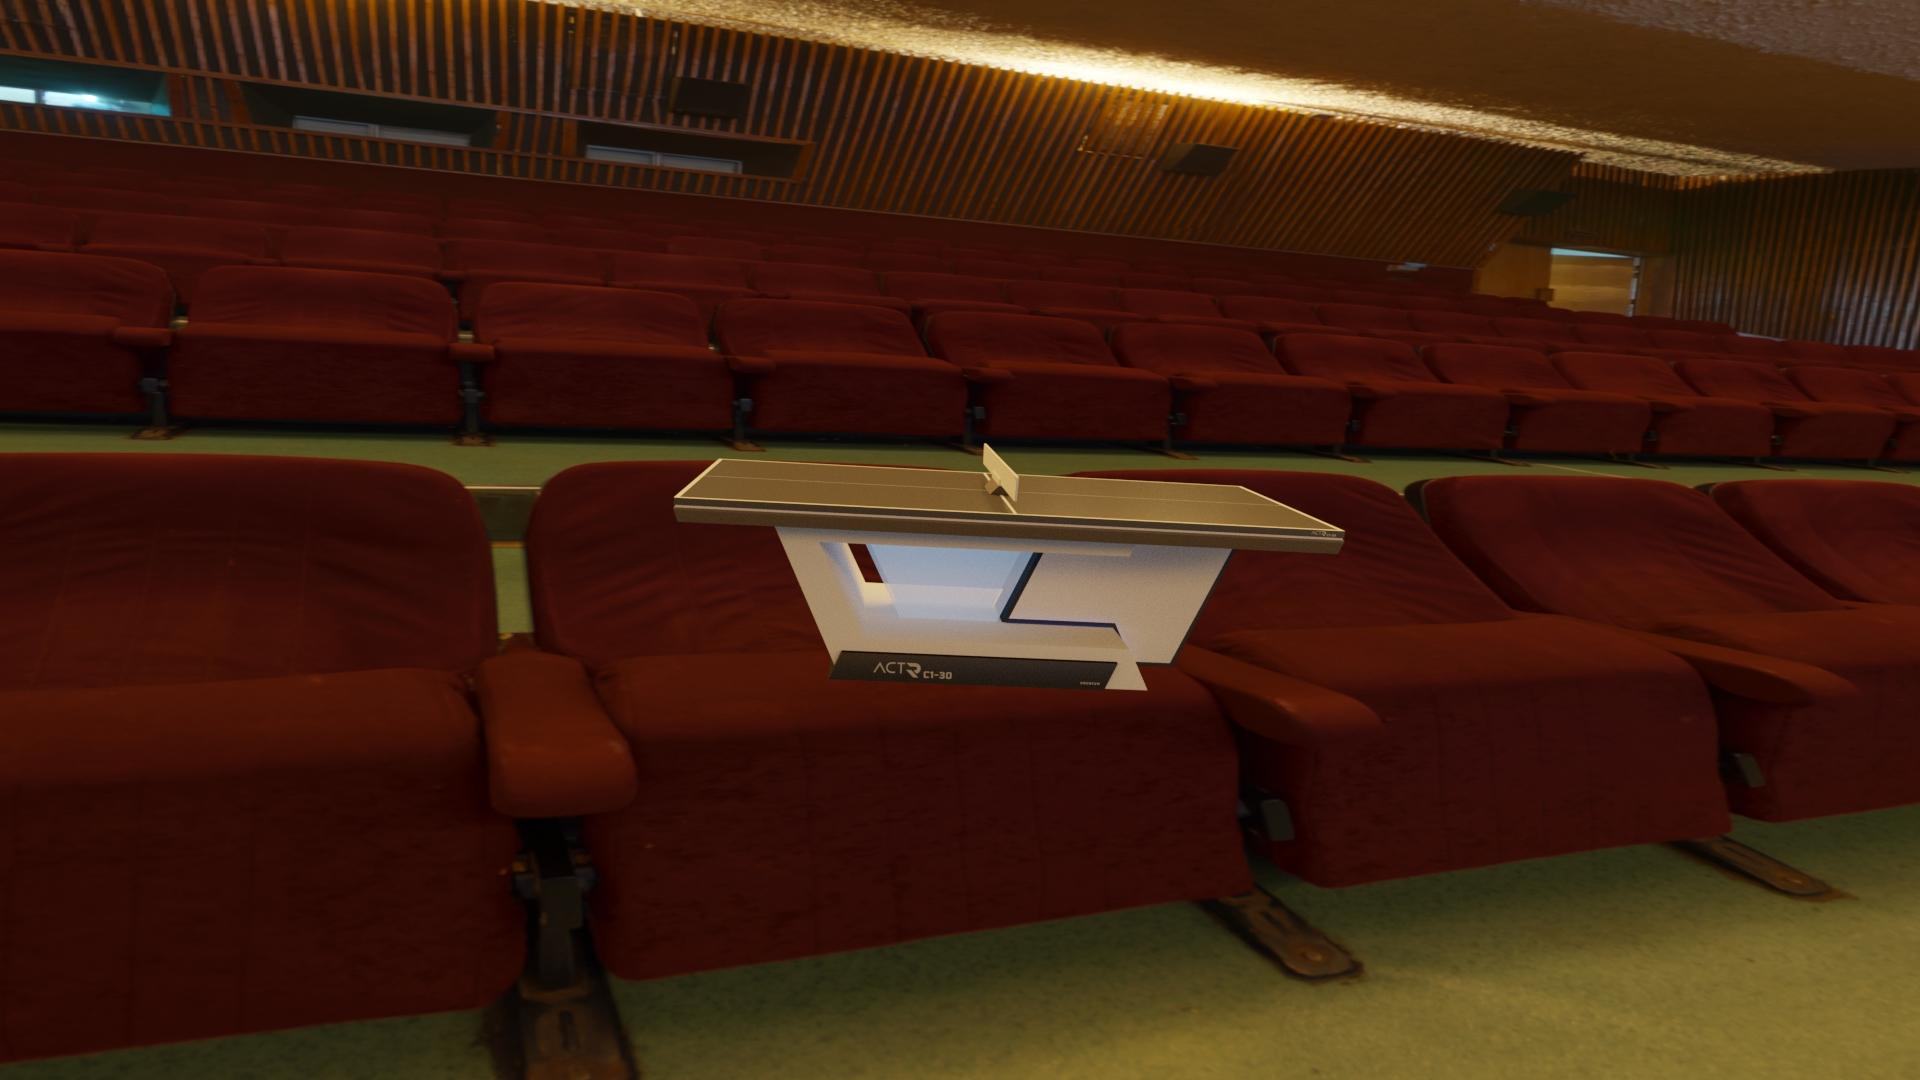table: (679, 459, 1338, 530)
